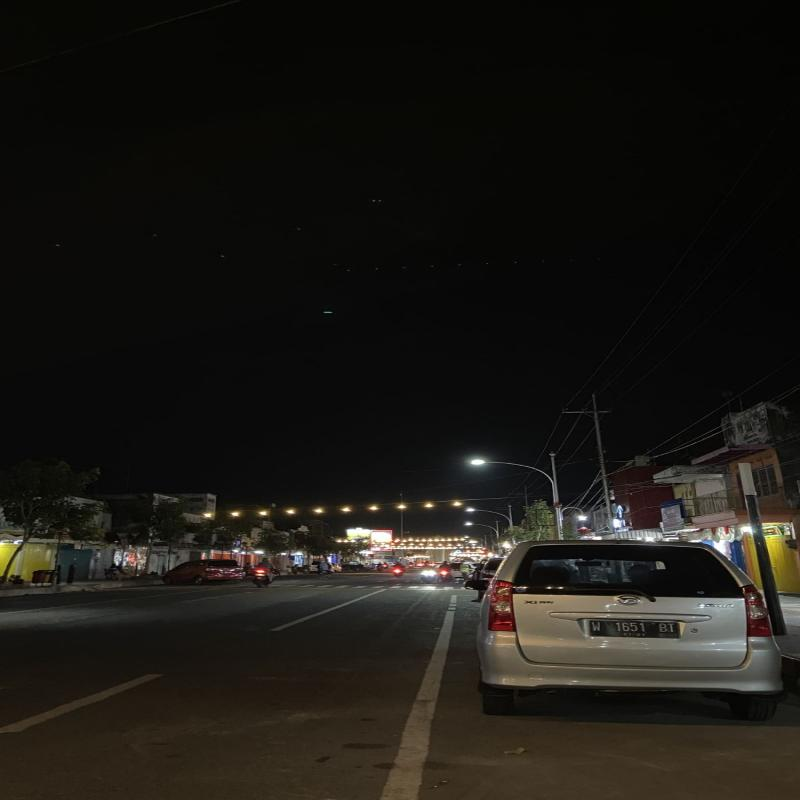license plate on a car: (581, 608, 694, 645)
